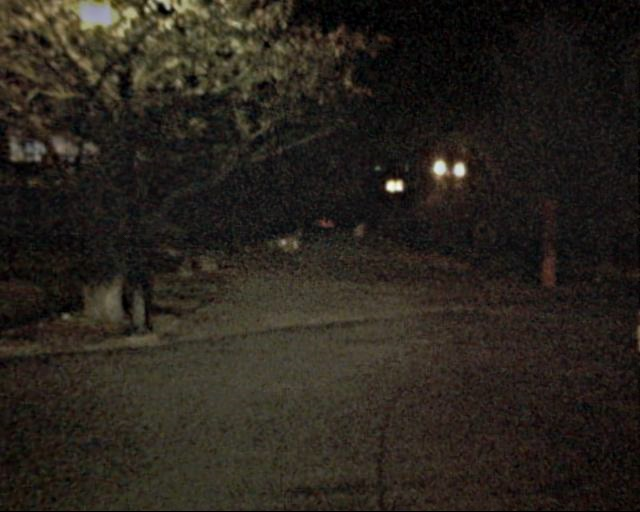person: (347, 219, 368, 269)
